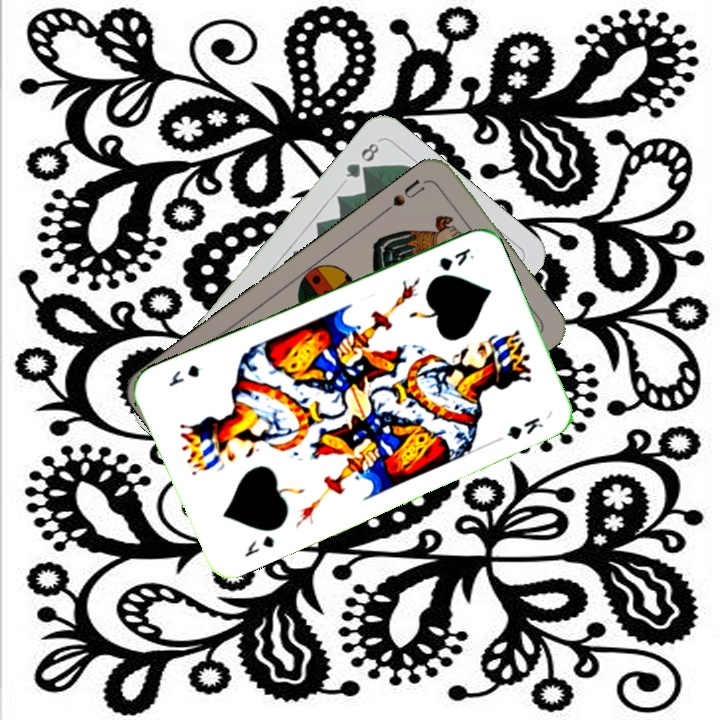G8: (341, 138, 382, 181)
GK: (435, 243, 477, 274), (240, 531, 277, 560)
SU: (379, 175, 431, 216)
